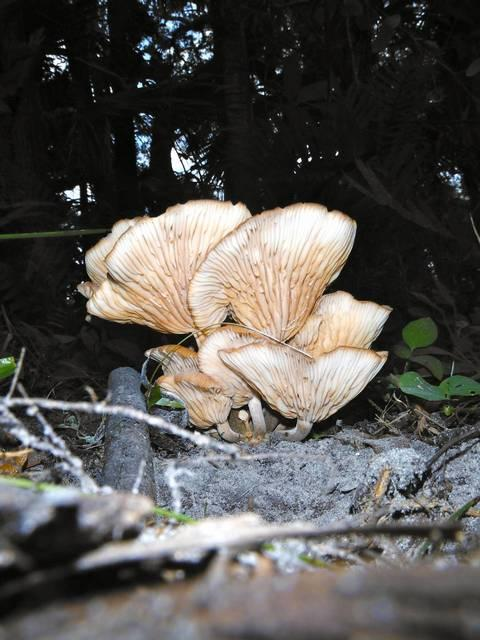edible_mushroom: (76, 197, 393, 444)
